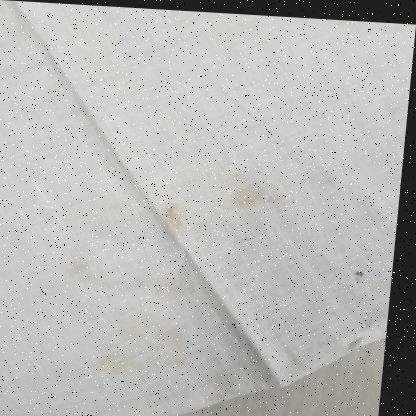spot: (74, 306, 204, 389), (60, 256, 222, 304), (226, 170, 289, 210), (161, 196, 195, 233), (212, 383, 243, 401), (357, 264, 374, 281), (319, 172, 340, 185)
